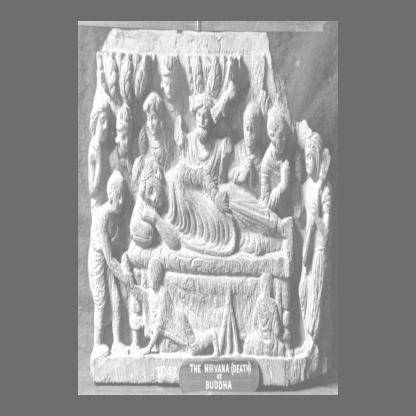buddha-sleeping: (127, 156, 292, 357)
